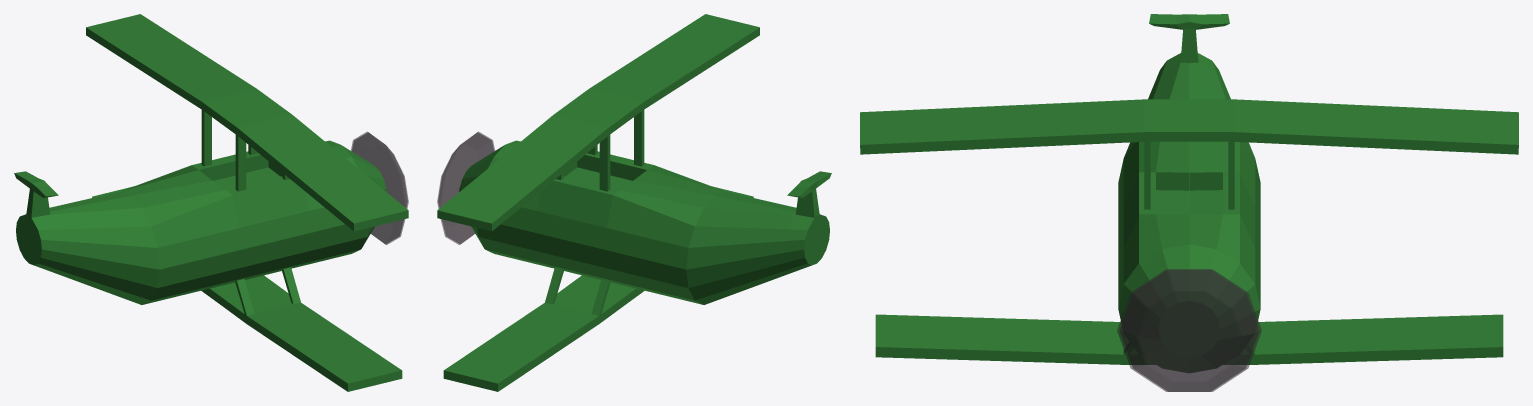
The model's file is BiPlane.fbx.
The picture shows the model from 3 angles, left to right: view 1: azimuth 30°, elevation 25°; view 2: azimuth 150°, elevation 25°; view 3: azimuth 270°, elevation 25°; orthographic projection. The views are drawn at different scales.
Visible parts, largest first — view 1: Biplane, Propeller; view 2: Biplane, Propeller; view 3: Biplane, Propeller.
Part boxes in pixels (x1,y1,x2,y2): Biplane: [14, 14, 408, 391]; Propeller: [351, 131, 408, 244]; Biplane: [437, 14, 831, 391]; Propeller: [437, 131, 494, 244]; Biplane: [860, 14, 1518, 372]; Propeller: [1117, 269, 1261, 391].
Size of the model in its own units: 713 by 361 by 925.
